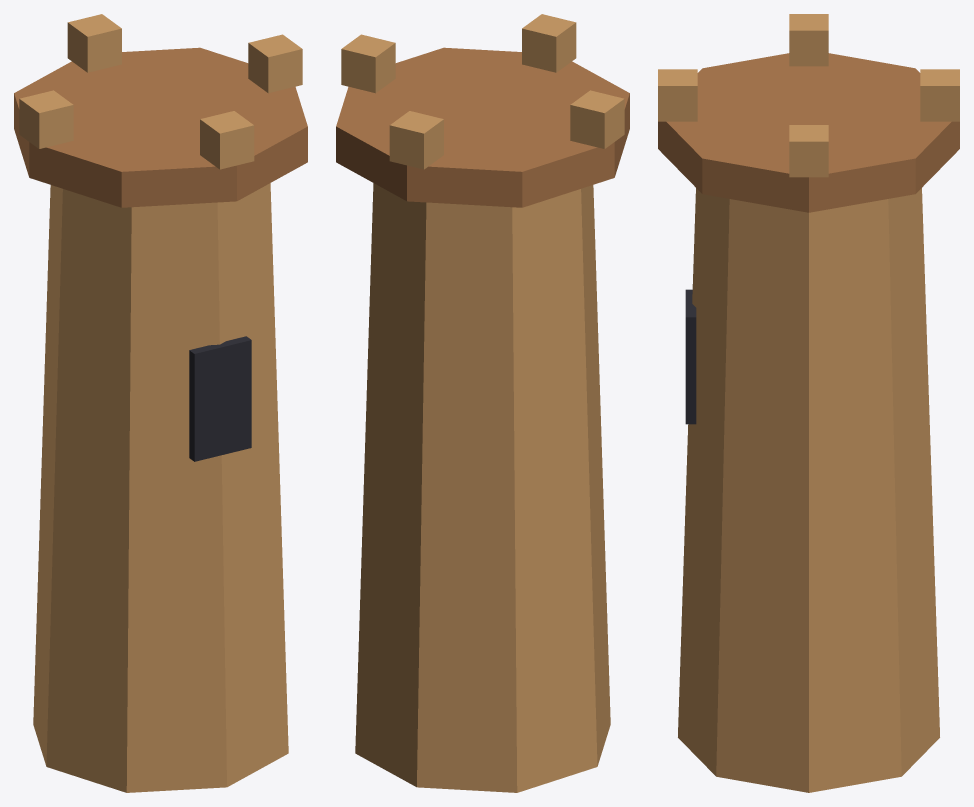
Rendered from market_tower.fbx.
3 renders of one model, left to right at view 1: azimuth 30°, elevation 25°; view 2: azimuth 150°, elevation 25°; view 3: azimuth 270°, elevation 25°, orthographic.
Parts seen in each view (by area): view 1: market_tower; view 2: market_tower; view 3: market_tower.
Part boxes in pixels (left/top/right/bottom): market_tower: left=14, top=14, right=307, bottom=792; market_tower: left=336, top=14, right=629, bottom=792; market_tower: left=658, top=14, right=959, bottom=792.
Bounding box in the file's own units: 2.3 × 5.55 × 2.3.
